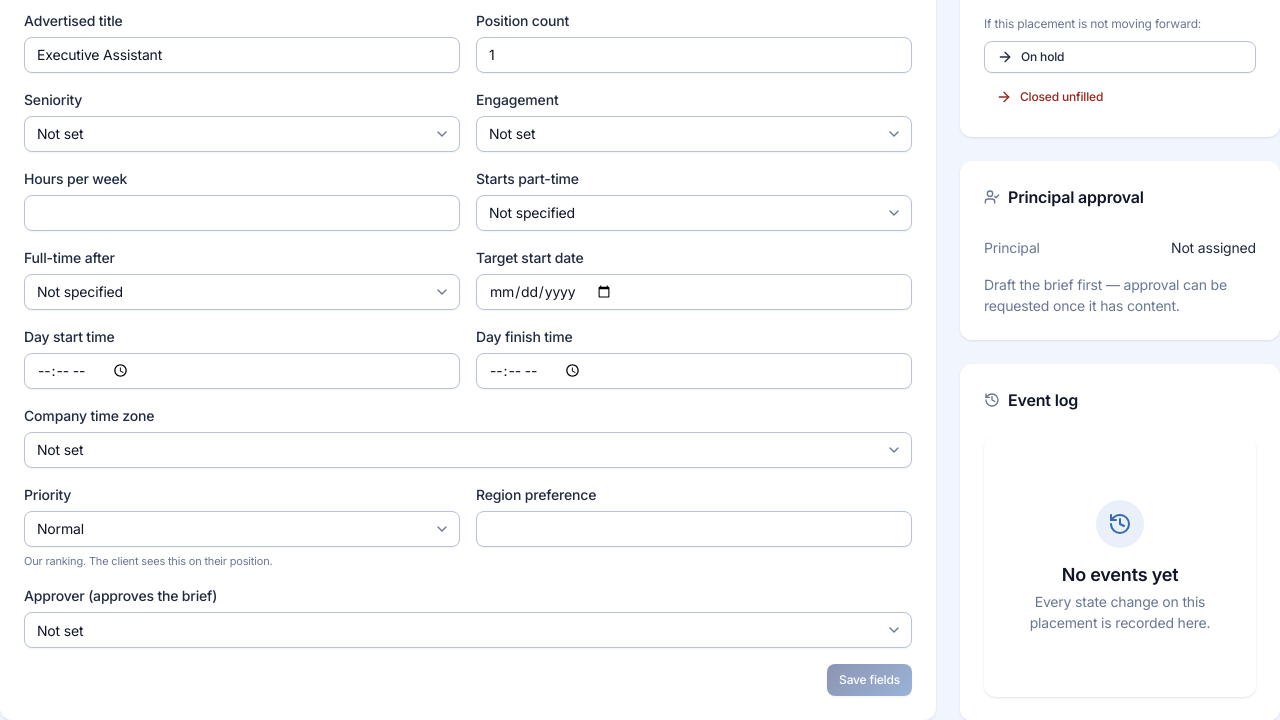
it: requisition overlap window (fields card) › requires a timezone whenever an overlap time is set
(page scrolled)
Type "09:00" into the time field labelled "Day start time" at (242, 370), box [24, 352, 460, 388]
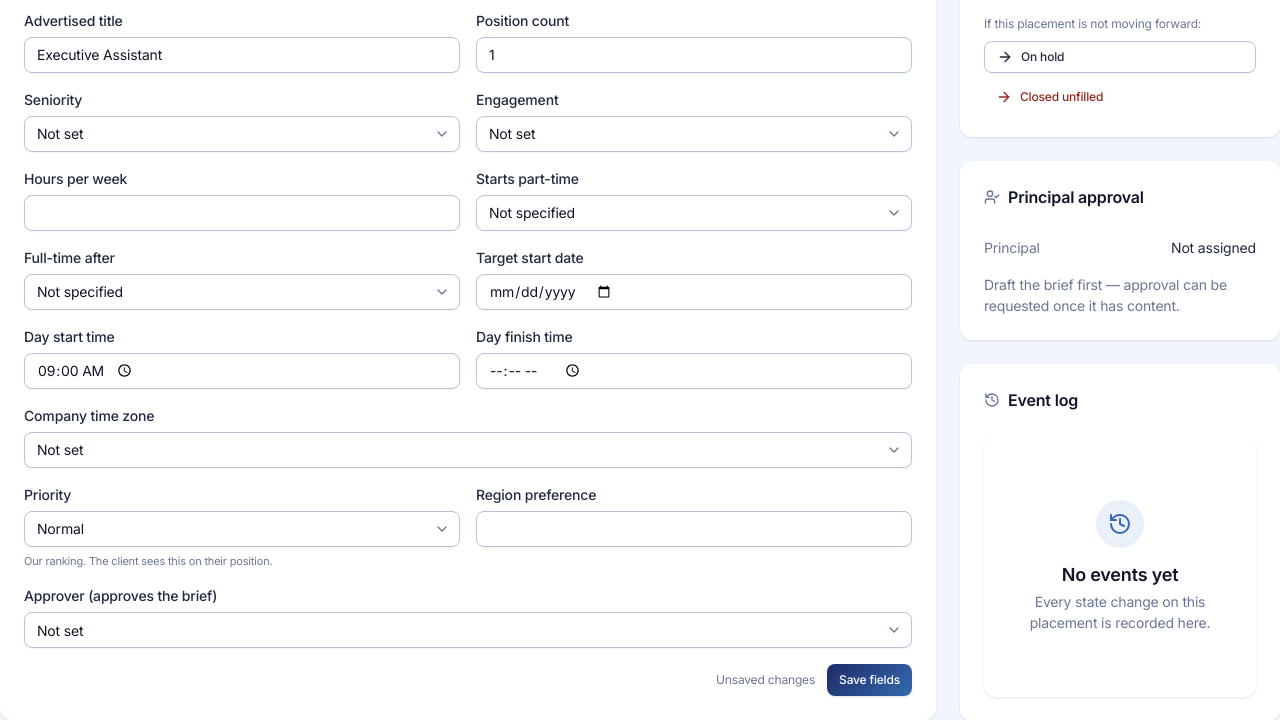
Click the button "Save fields" at (870, 680), box [827, 664, 912, 696]
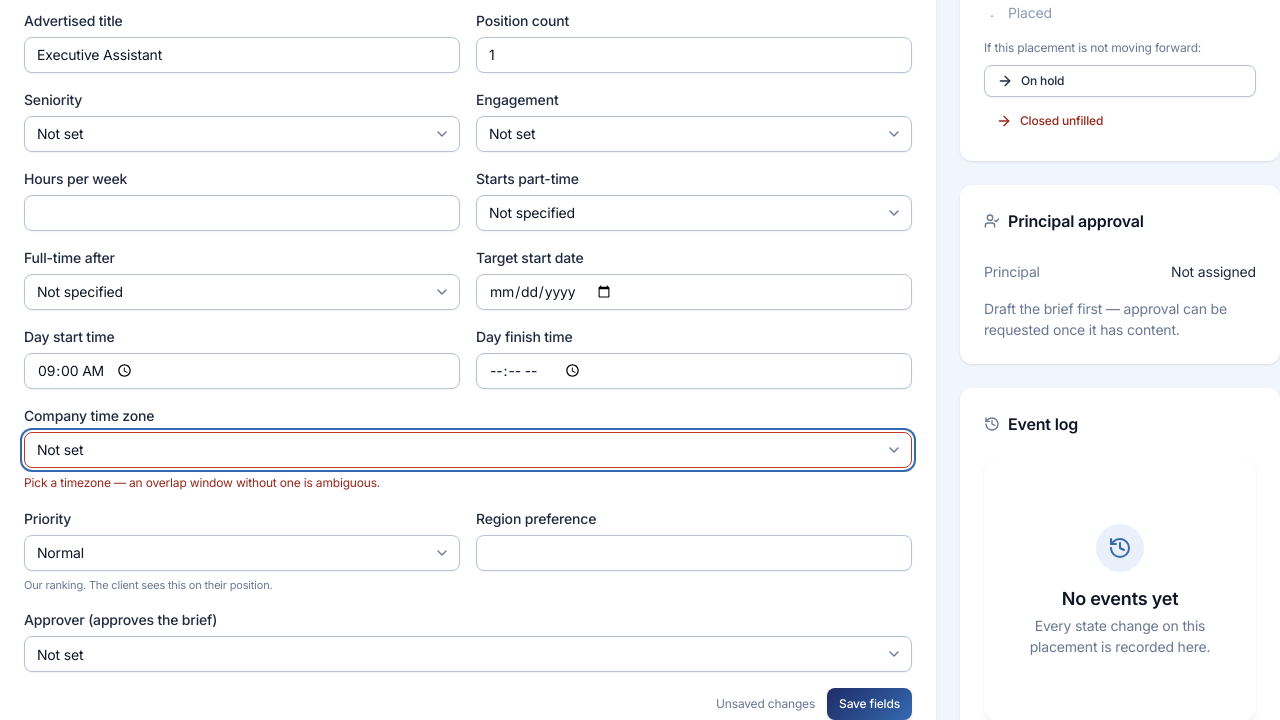
Expected: the text "Pick a timezone — an overlap window without one is ambiguous." is shown, [24, 474, 380, 490]
